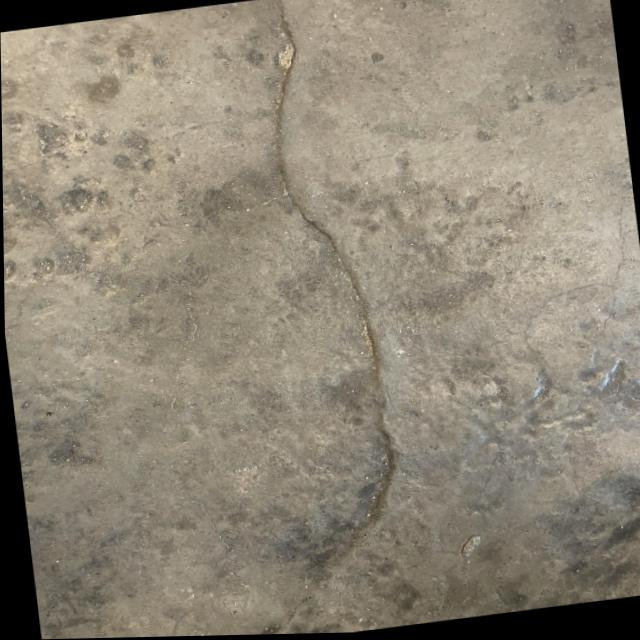Crack: (198, 0, 429, 637)
